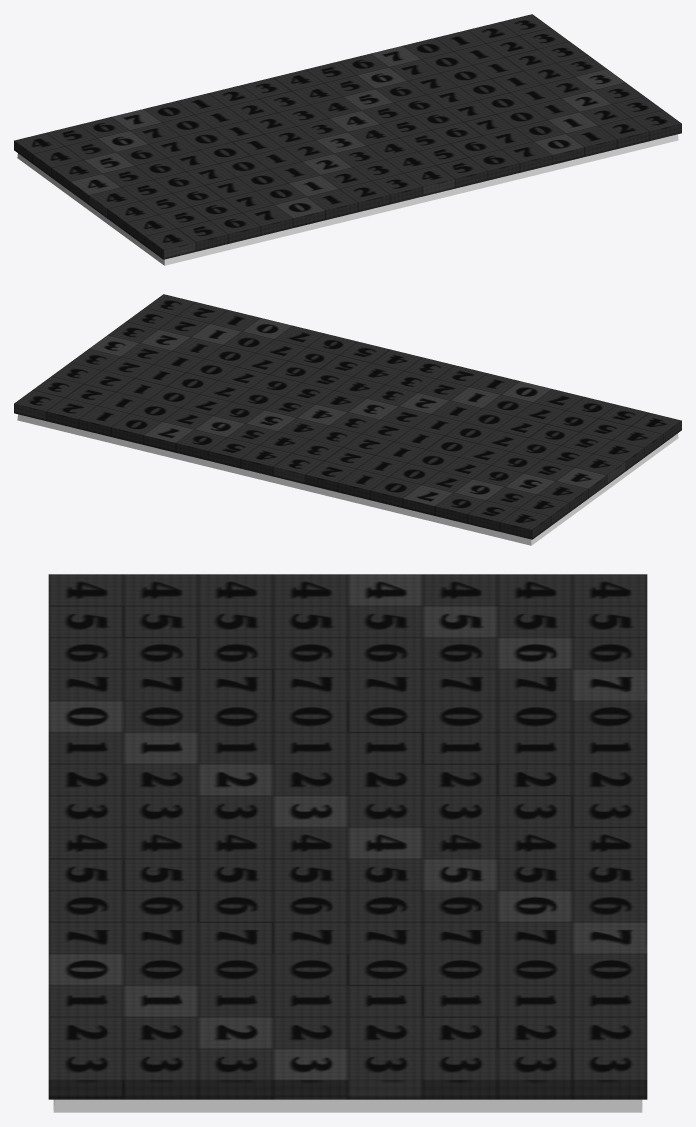
Rendered from Podium03_700x350x25cm.FBX.
3 renders of one model, top to bottom at view 1: azimuth 30°, elevation 25°; view 2: azimuth 150°, elevation 25°; view 3: azimuth 270°, elevation 25°, orthographic. The views are drawn at different scales.
Visible parts, largest first — view 1: Podium03_700x350x25cm; view 2: Podium03_700x350x25cm; view 3: Podium03_700x350x25cm.
Boxes of the visible parts, x1,y1,x2,y2 form: Podium03_700x350x25cm: [14, 14, 681, 265]; Podium03_700x350x25cm: [14, 294, 681, 545]; Podium03_700x350x25cm: [48, 574, 647, 1112].
Size of the model in its own units: 700 by 22.11 by 350.
